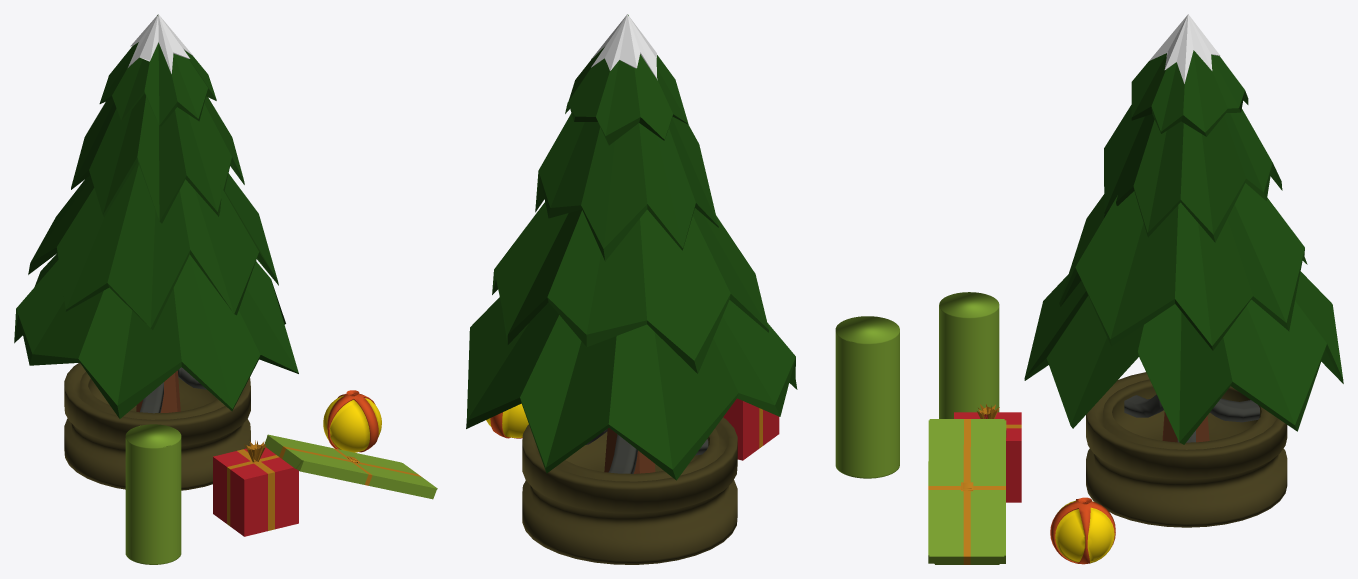
Rendered from Christmas tree (1).glb.
The picture shows the model from 3 angles, left to right: view 1: azimuth 30°, elevation 25°; view 2: azimuth 150°, elevation 25°; view 3: azimuth 270°, elevation 25°; orthographic projection. The views are drawn at different scales.
Visible parts, largest first — view 1: Cone, Cone.001, Cone.002, Topf, Gabe5, Cone.003, Gabe1, Gabe2, Gabe4, Cone.004; view 2: Cone, Cone.001, Topf, Cone.002, Gabe5, Cone.003, Gabe1, Gabe4, Cone.004; view 3: Cone, Cone.001, Topf, Cone.002, Gabe2, Cone.003, Gabe5, Gabe4, Gabe1, Cone.004.
Boxes of the visible parts, x1,y1,x2,y2 form: Cone: [14, 253, 298, 418]; Cone.001: [28, 161, 278, 329]; Cone.002: [71, 15, 244, 223]; Topf: [64, 363, 250, 490]; Gabe5: [125, 424, 181, 564]; Cone.003: [99, 14, 216, 126]; Gabe1: [213, 440, 298, 536]; Gabe2: [264, 434, 437, 499]; Gabe4: [323, 390, 381, 452]; Cone.004: [136, 370, 180, 412]; Cone: [466, 297, 797, 480]; Cone.001: [492, 202, 768, 373]; Topf: [522, 417, 737, 564]; Cone.002: [535, 15, 718, 261]; Gabe5: [835, 316, 899, 478]; Cone.003: [565, 14, 688, 145]; Gabe1: [723, 398, 779, 460]; Gabe4: [486, 403, 528, 438]; Cone.004: [604, 428, 655, 473]; Cone: [1024, 271, 1343, 444]; Cone.001: [1059, 183, 1307, 350]; Topf: [1086, 372, 1287, 527]; Cone.002: [1104, 105, 1282, 242]; Gabe2: [928, 419, 1006, 564]; Cone.003: [1131, 14, 1248, 136]; Gabe5: [939, 292, 999, 418]; Gabe4: [1050, 497, 1115, 564]; Gabe1: [954, 404, 1021, 502]; Cone.004: [1162, 412, 1209, 442].
Size of the model in its own units: 3.73 by 5.18 by 4.12.
